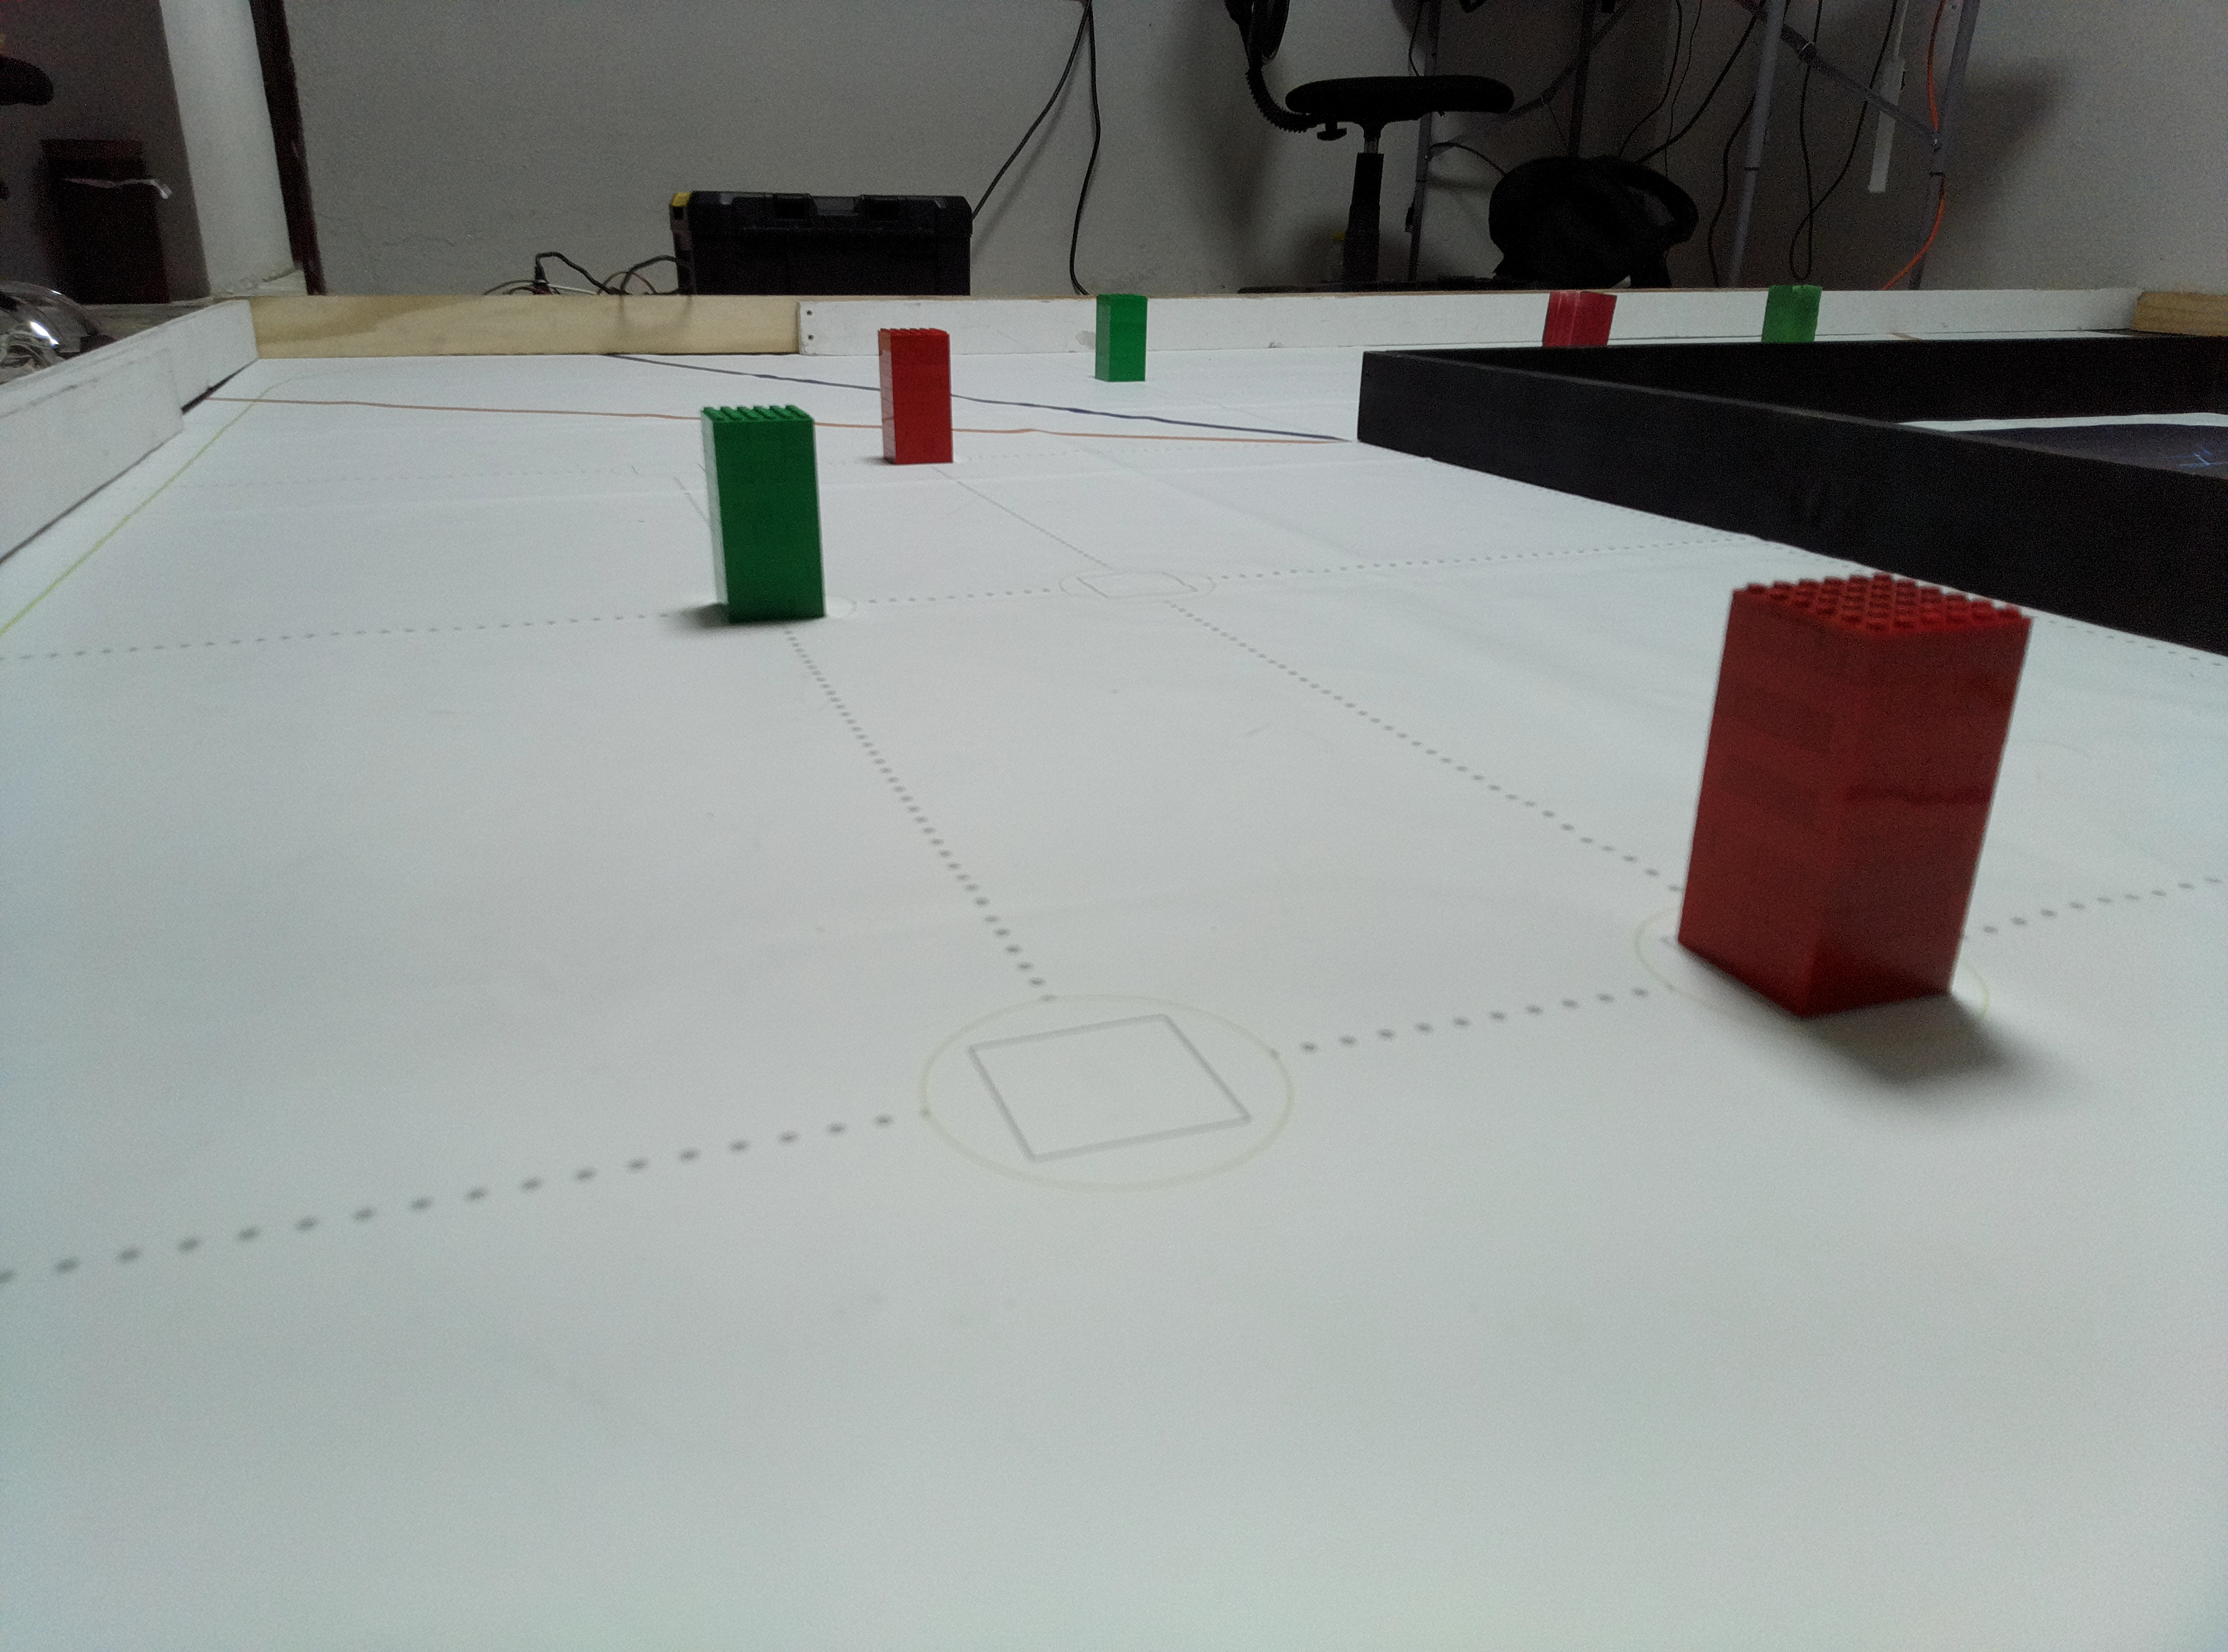greenbox: (696, 406, 828, 626), (1095, 293, 1149, 383), (1759, 283, 1824, 344)
redbox: (1669, 571, 2037, 1027), (875, 324, 954, 465), (1539, 288, 1619, 345)
